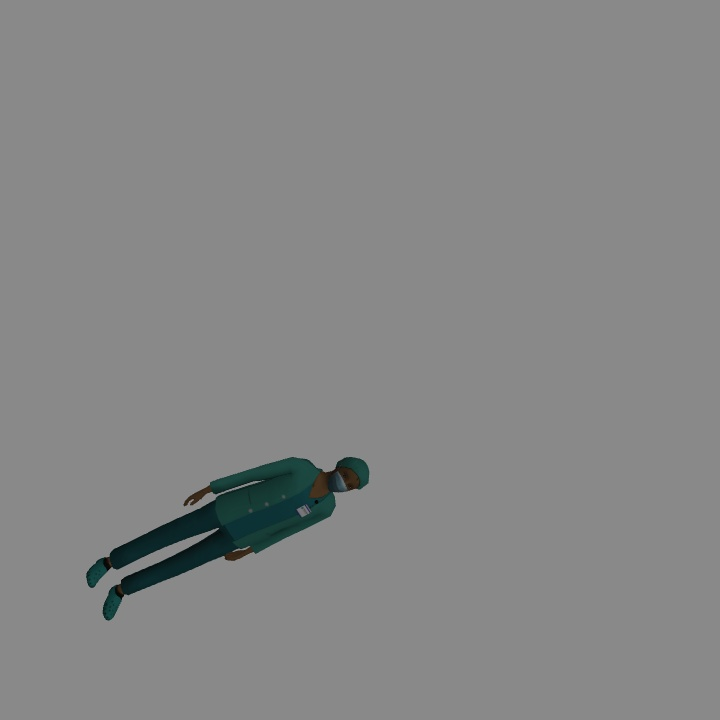victim: (88, 456, 370, 618)
